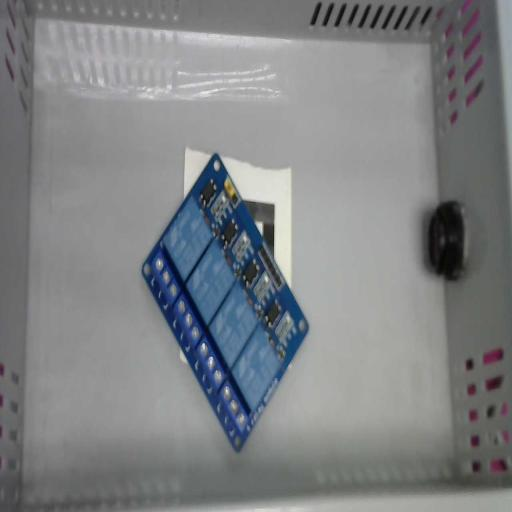relay_module: (142, 153, 309, 454)
